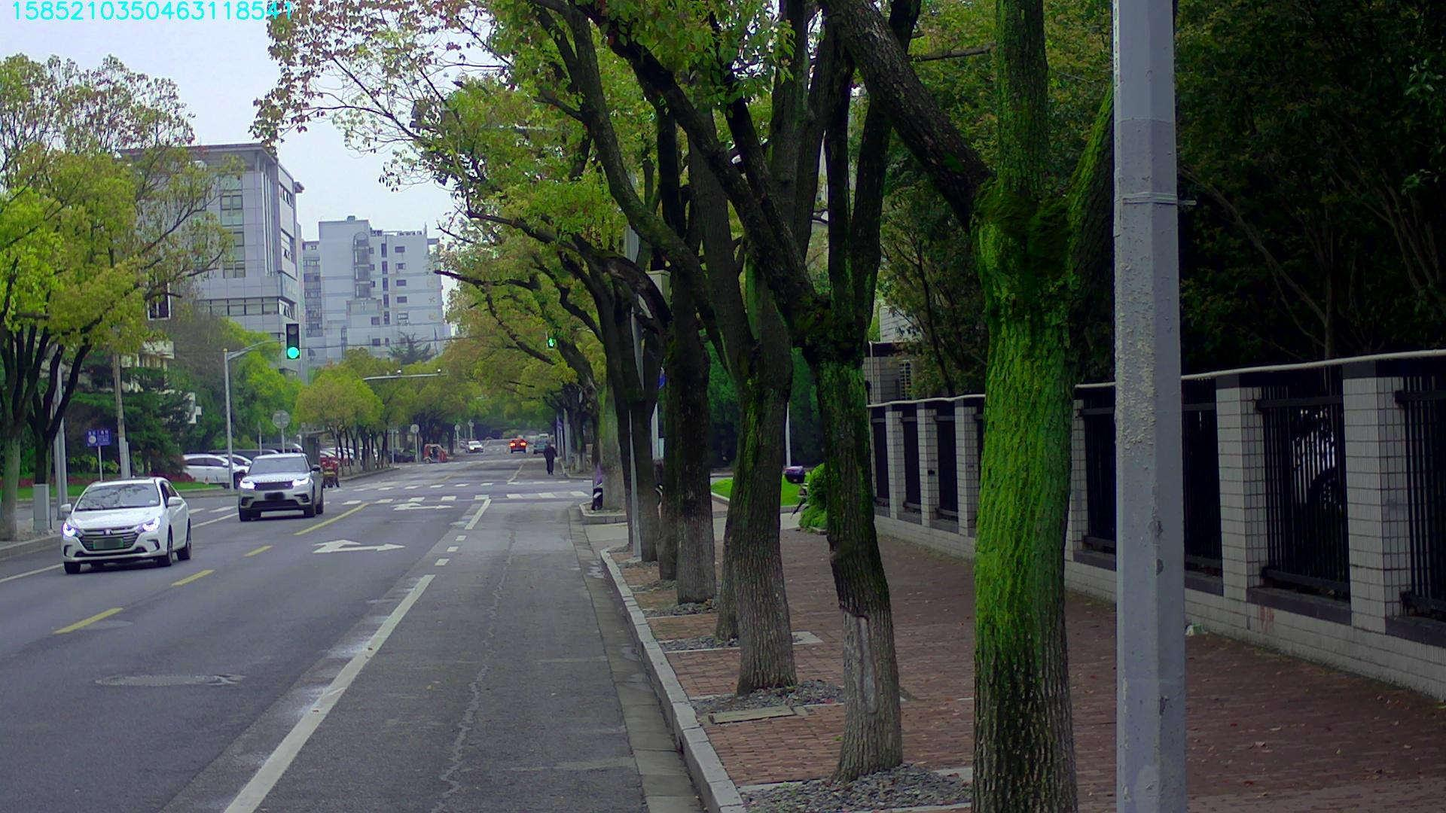green: (284, 321, 300, 358), (546, 327, 557, 349)
